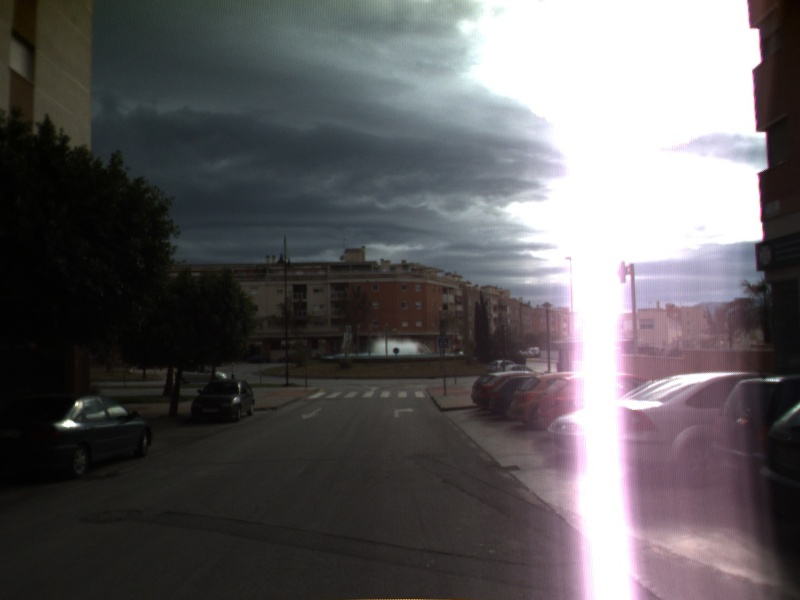RIGHT: (392, 405, 417, 419)
